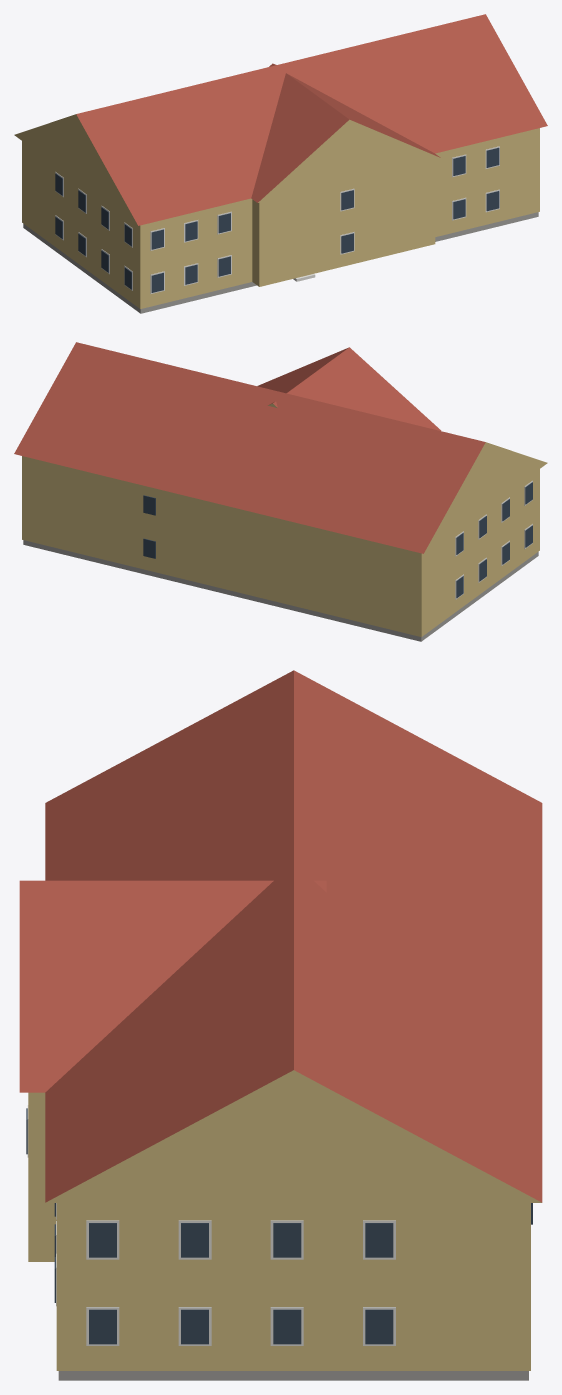
Rendered from asset.glb.
The picture shows the model from 3 angles, top to bottom: view 1: azimuth 30°, elevation 25°; view 2: azimuth 150°, elevation 25°; view 3: azimuth 270°, elevation 25°; orthographic projection. The views are drawn at different scales.
Parts seen in each view (by area): view 1: roof, body, wing_body, roof_wing, wing_gable, gable_end, foundation; view 2: roof, body, roof_wing, gable_end, foundation; view 3: roof, body, gable_end, roof_wing, foundation, wing_body, win.012, win.013, win.027, win.028, win.010, win.011 (+2 smaller).
Boxes of the visible parts, <box> form: roof: <box>76,14,547,225</box>; body: <box>22,128,539,308</box>; wing_body: <box>252,160,435,286</box>; roof_wing: <box>251,63,440,202</box>; wing_gable: <box>258,119,440,202</box>; gable_end: <box>14,114,137,225</box>; foundation: <box>23,212,538,313</box>; roof: <box>14,342,485,553</box>; body: <box>22,456,539,636</box>; roof_wing: <box>257,347,441,430</box>; gable_end: <box>424,442,547,553</box>; foundation: <box>23,540,538,641</box>; roof: <box>45,670,542,1202</box>; body: <box>56,1203,530,1370</box>; gable_end: <box>45,1070,541,1202</box>; roof_wing: <box>19,880,326,1092</box>; foundation: <box>58,1371,528,1380</box>; wing_body: <box>28,1092,56,1261</box>; win.012: <box>273,1309,301,1344</box>; win.013: <box>365,1309,393,1344</box>; win.027: <box>273,1223,301,1257</box>; win.028: <box>365,1223,393,1257</box>; win.010: <box>89,1309,116,1344</box>; win.011: <box>181,1309,208,1344</box>.
Size of the model in its own units: 28.73 by 10.6 by 15.88.
